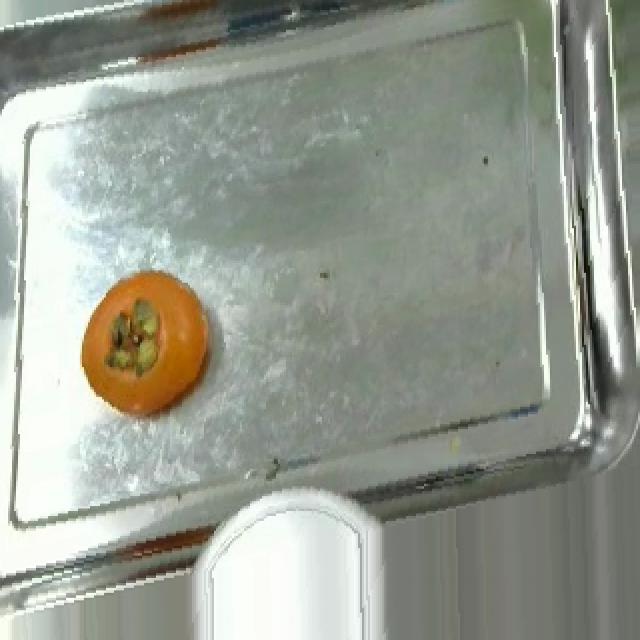Fruit: (72, 256, 222, 432), (30, 573, 236, 640)
